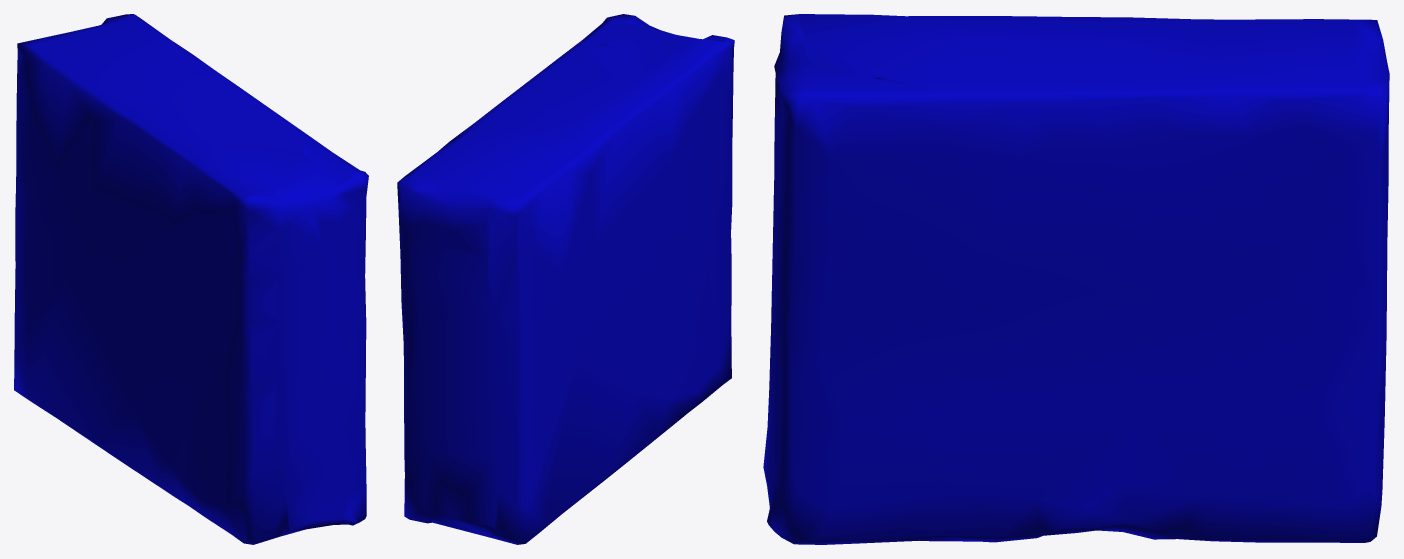
Rendered from 08194_sparse_textured_ok.obj.
3 renders of one model, left to right at view 1: azimuth 30°, elevation 25°; view 2: azimuth 150°, elevation 25°; view 3: azimuth 270°, elevation 25°, orthographic. The views are drawn at different scales.
Visible parts, largest first — view 1: textured_ok; view 2: textured_ok; view 3: textured_ok.
Part boxes in pixels (<box>): textured_ok: <box>14,14,368,544</box>; textured_ok: <box>397,14,734,544</box>; textured_ok: <box>763,14,1389,544</box>.
Bounding box in the file's own units: 0.0305 × 0.0734 × 0.0901.
